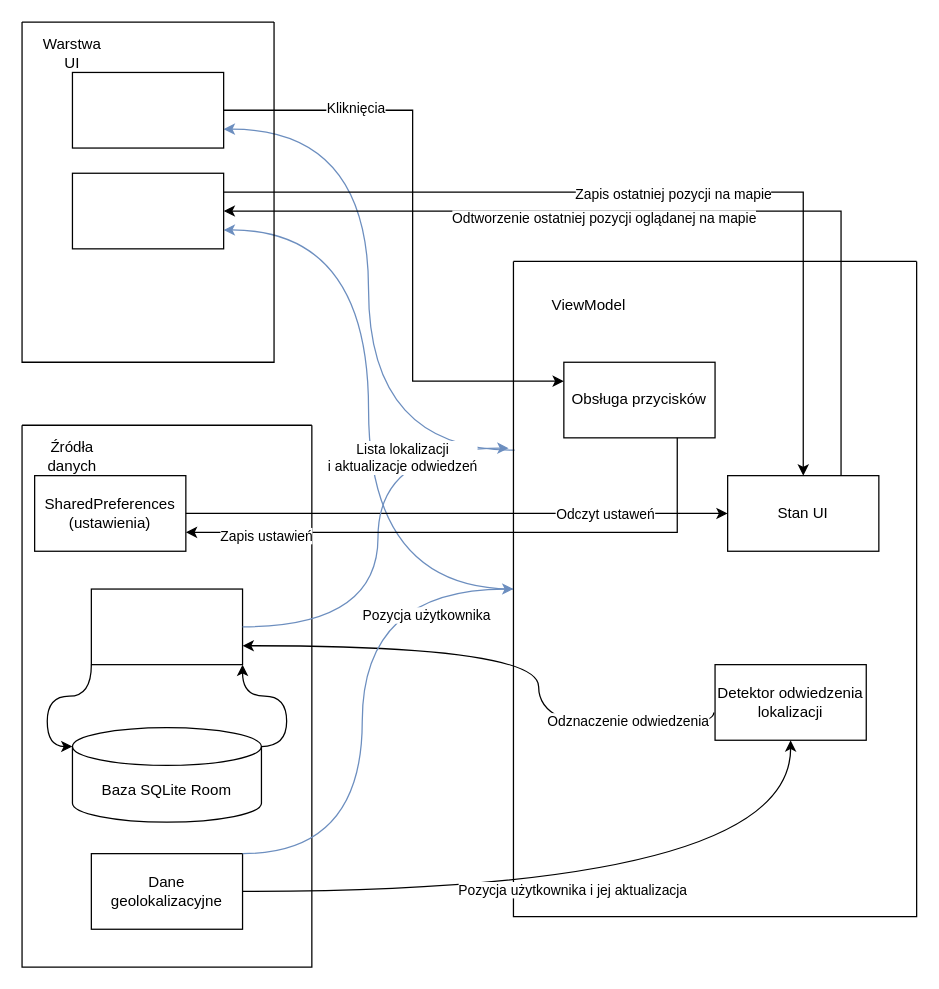
This 939x989 diagram has some shape labels left out. The centre of each missing label's shape, as x and y in pixels:
"Achievement DAO" belongs at (166,626).
"Ekrany" belongs at (147,109).
"Mapa" belongs at (147,210).
